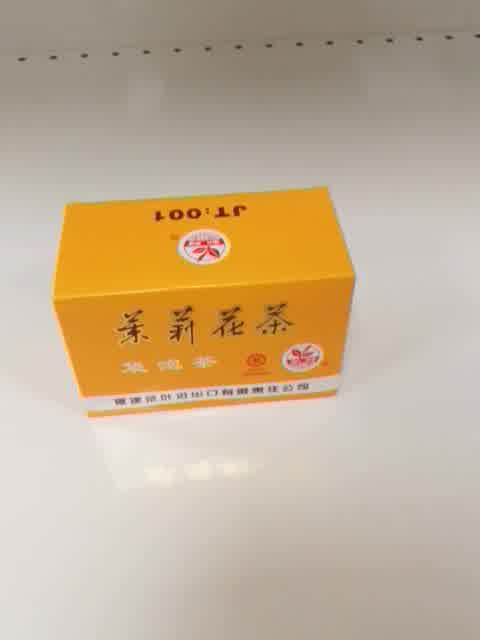jasminetea: (52, 187, 356, 416)
